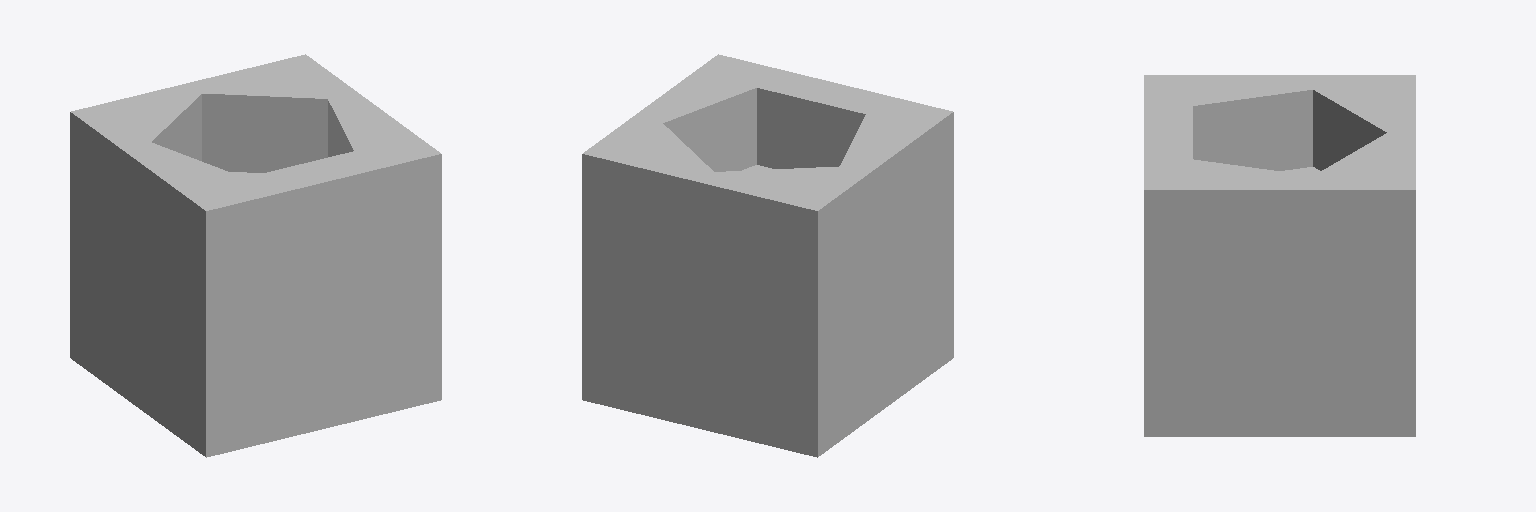
Rendered from Pentagon_cube_bottle_preprocessed.obj.
3 renders of one model, left to right at view 1: azimuth 30°, elevation 25°; view 2: azimuth 150°, elevation 25°; view 3: azimuth 270°, elevation 25°, orthographic.
Bounding box in the file's own units: 0.08 × 0.08 × 0.08.